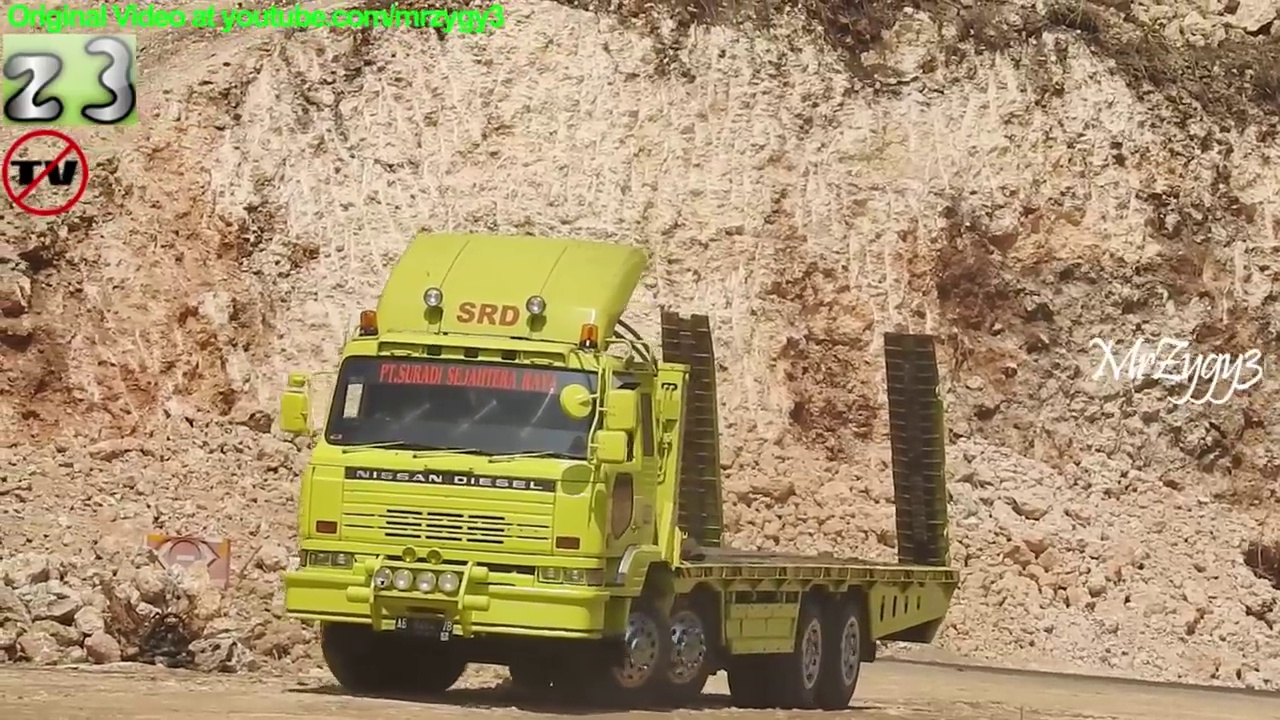truck: (277, 227, 967, 710)
